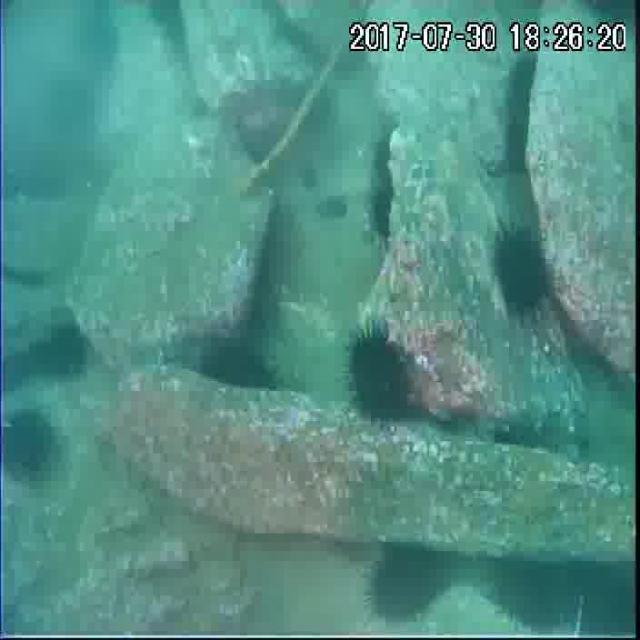echinus: (492, 550, 579, 636), (365, 538, 450, 626), (348, 327, 412, 420), (574, 558, 640, 640), (494, 225, 550, 316), (196, 334, 276, 390), (0, 406, 55, 482), (504, 50, 536, 178), (39, 319, 90, 380), (367, 178, 398, 244), (370, 130, 397, 188)
